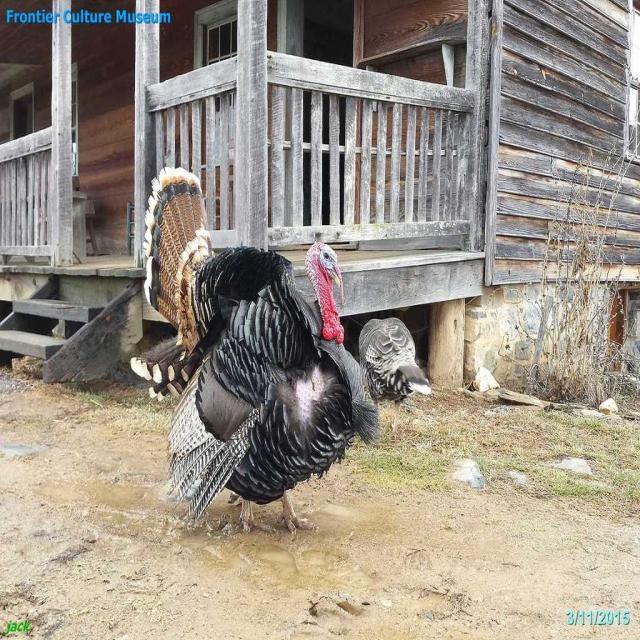turkey: (125, 140, 445, 572)
